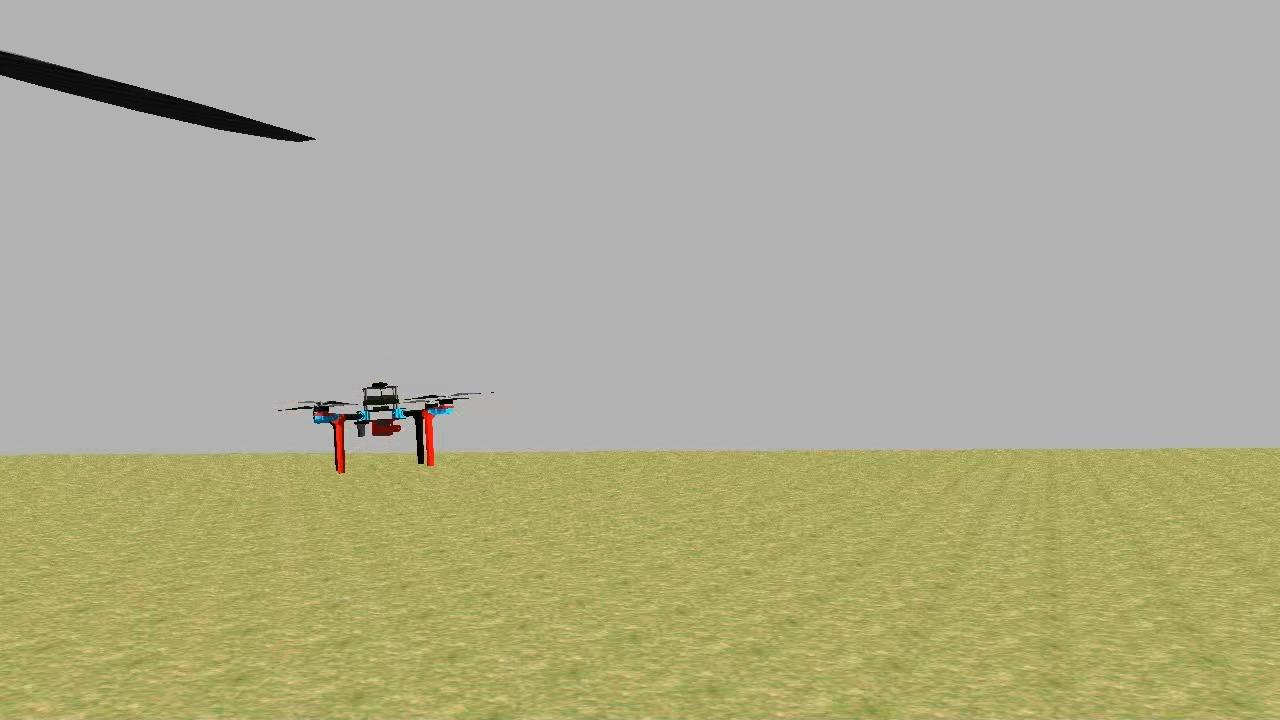UAV: (306, 378, 458, 478)
